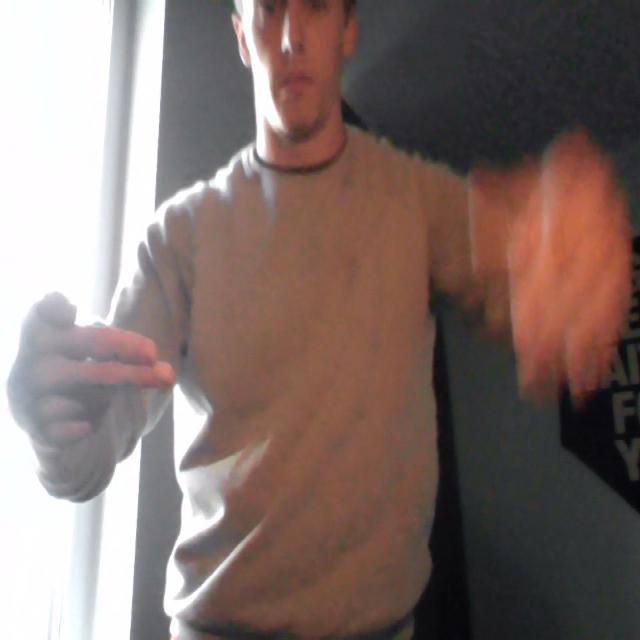right: (10, 270, 183, 486)
